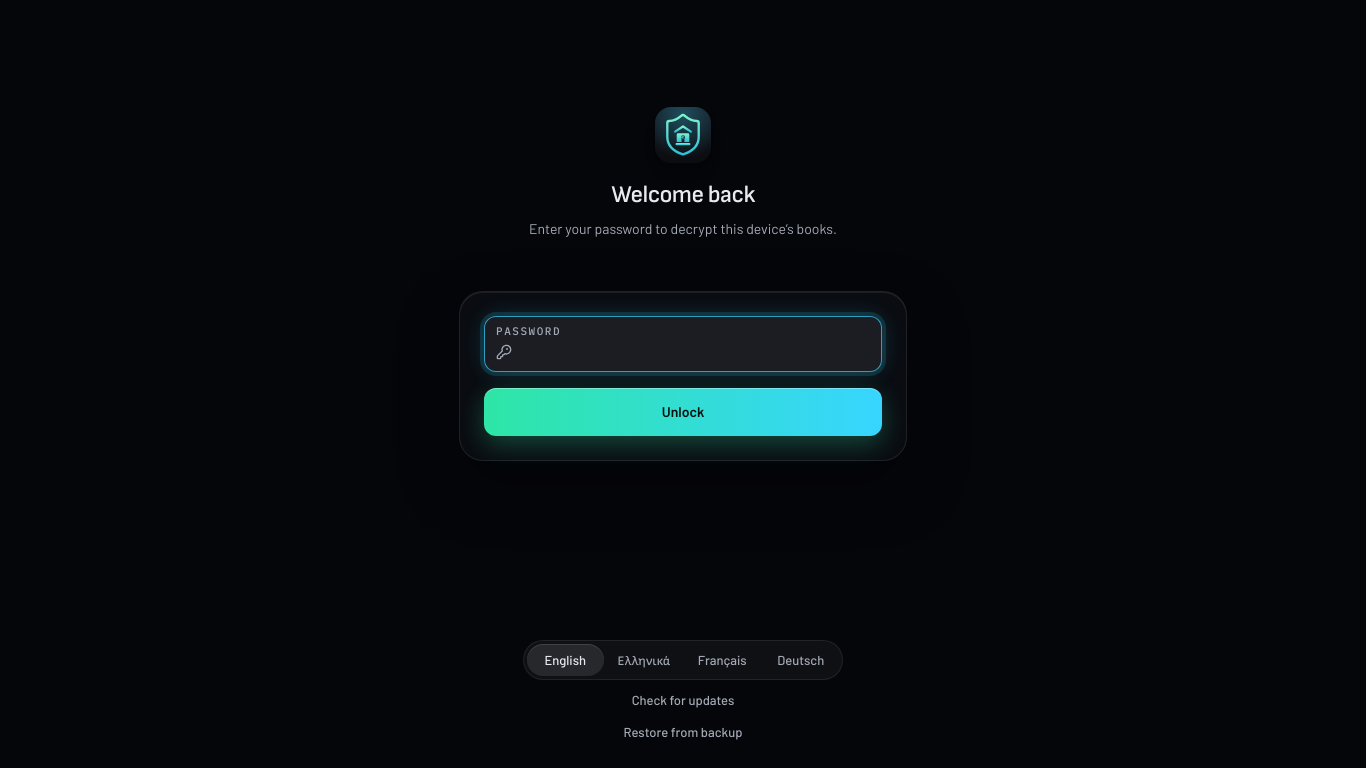
checking is held and the footer button stays busy › cancelling during the hold drops the late result
Click the button "Check for updates".
click(683, 700)  # box [626,688,740,712]
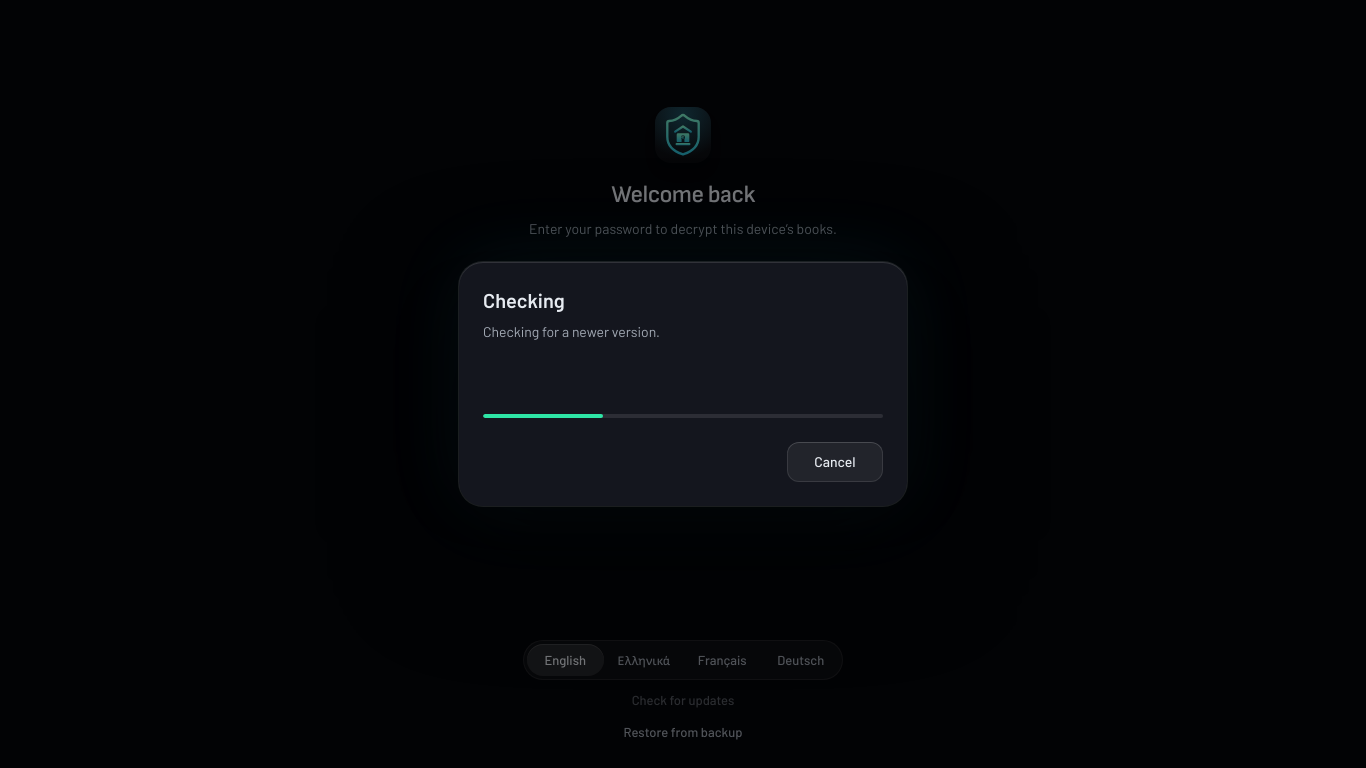
Click the button "Cancel".
click(835, 462)  # box [787,442,883,482]
Wait 600 ms
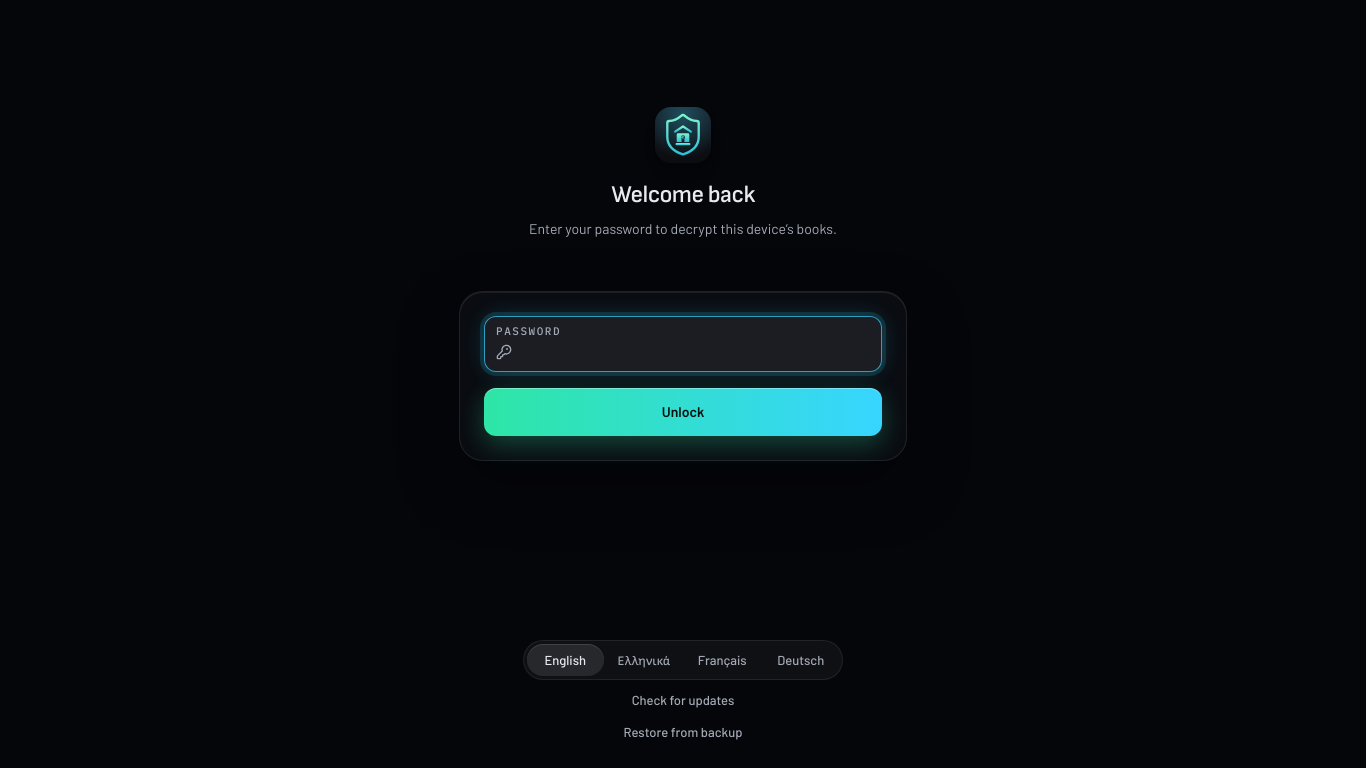
Expected: the dialog is gone
